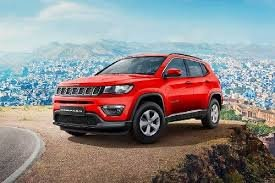mobil: (53, 51, 222, 139)
